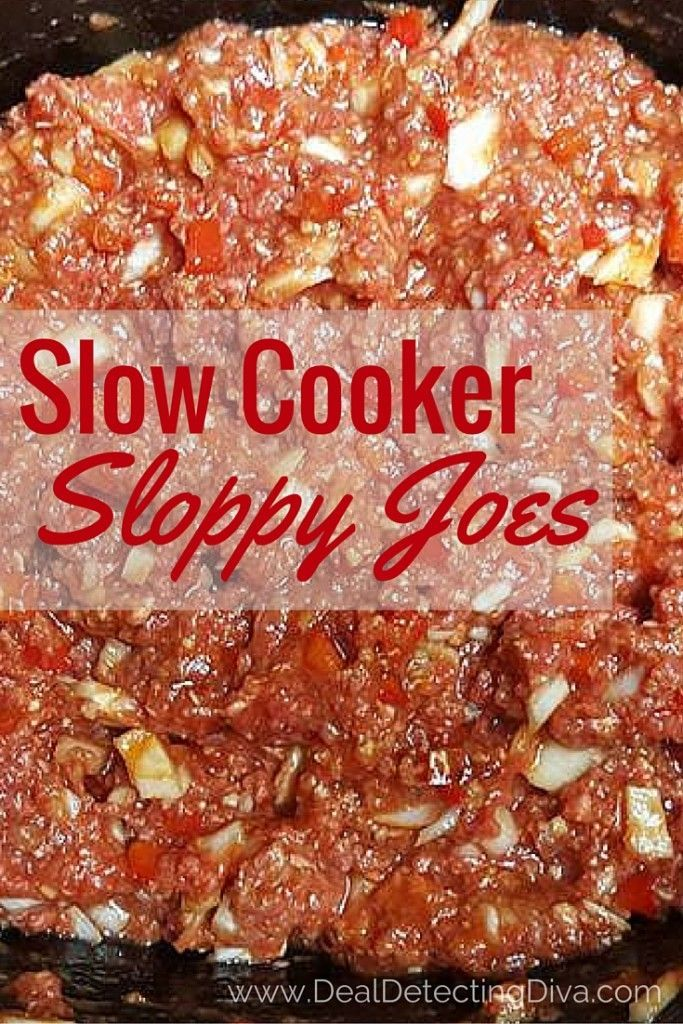ground_beef: (12, 626, 665, 902), (96, 112, 596, 309)
